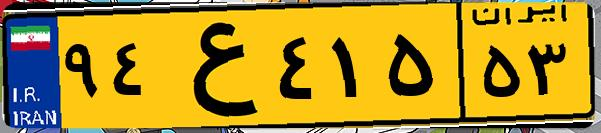1: (330, 28, 385, 110)
3: (525, 38, 570, 115)
4: (270, 28, 330, 110), (110, 28, 158, 98)
5: (385, 28, 445, 110), (475, 38, 525, 113)
9: (57, 26, 110, 100)
ع: (158, 12, 270, 120)
